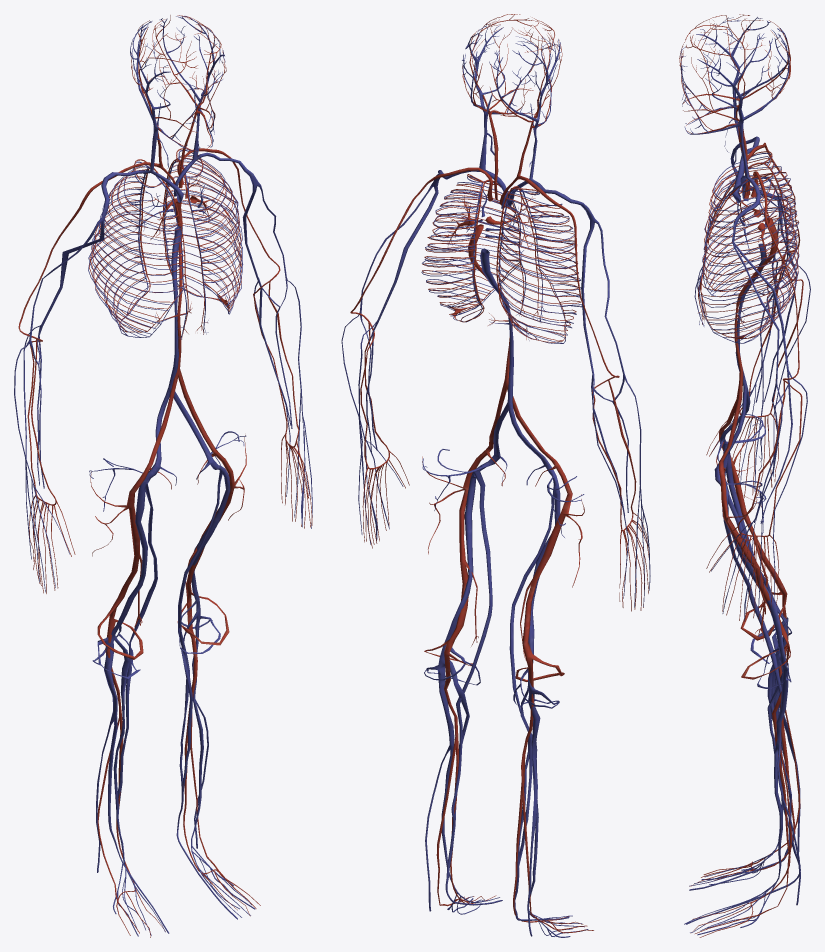
The model's file is blood1.gltf.
3 renders of one model, left to right at view 1: azimuth 30°, elevation 25°; view 2: azimuth 150°, elevation 25°; view 3: azimuth 270°, elevation 25°, orthographic. The views are drawn at different scales.
Parts seen in each view (by area): view 1: 8, 7; view 2: 8, 7; view 3: 8, 7.
Part boxes in pixels (box(x1,y1,x2,y2)): 8: box(14, 15, 312, 936); 7: box(18, 15, 312, 937); 8: box(341, 22, 650, 937); 7: box(350, 14, 648, 933); 8: box(680, 17, 810, 935); 7: box(679, 14, 803, 937).
Size of the model in its own units: 57.53 by 169 by 22.67.
2 materials, 2 textured.
